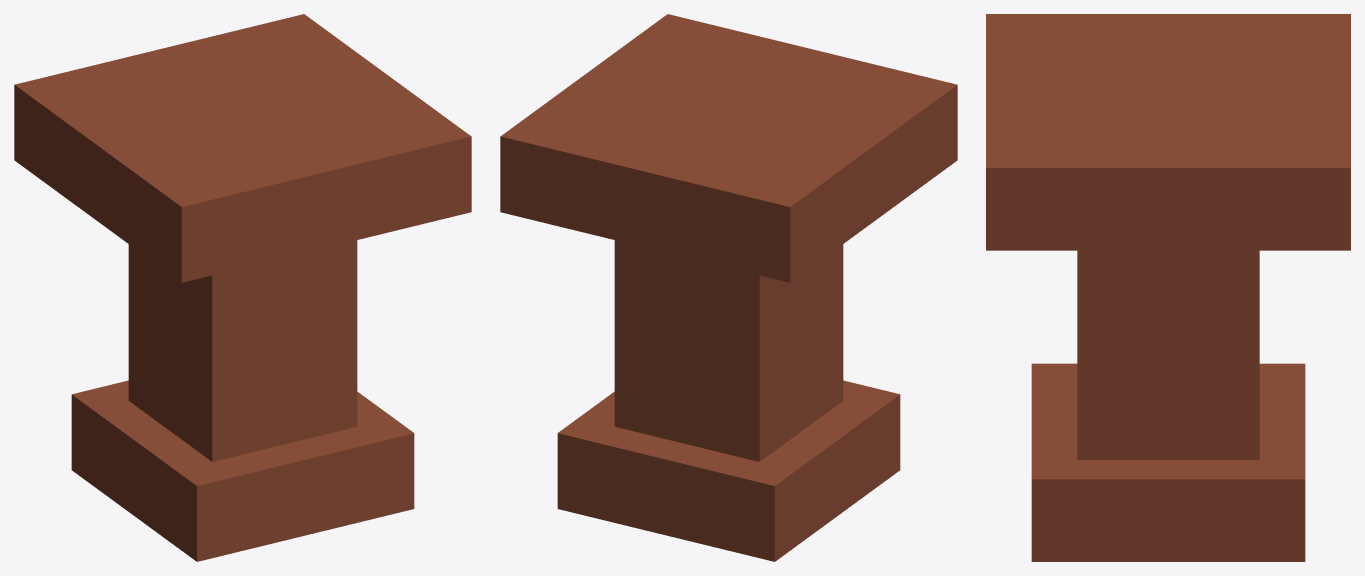
File: dark-wood-bench.obj
3 renders of one model, left to right at view 1: azimuth 30°, elevation 25°; view 2: azimuth 150°, elevation 25°; view 3: azimuth 270°, elevation 25°, orthographic. The views are drawn at different scales.
Size of the model in its own units: 4 by 5 by 4.
Materials: 1 (1 with a texture image).
